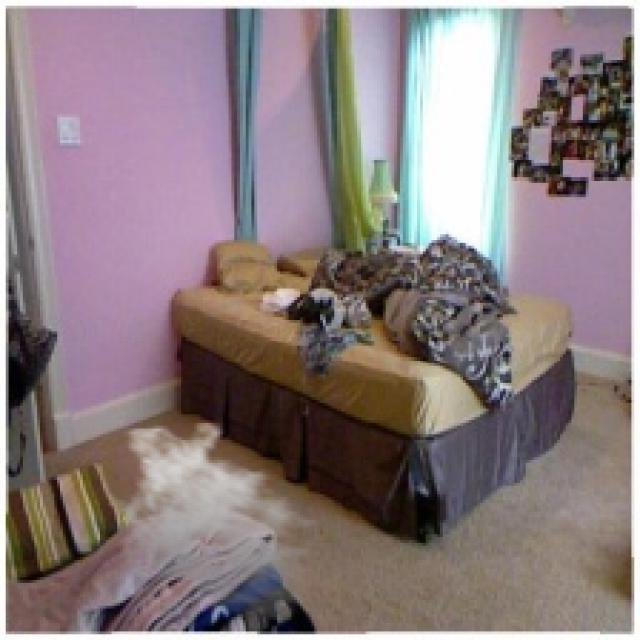smoke: (114, 420, 329, 623)
